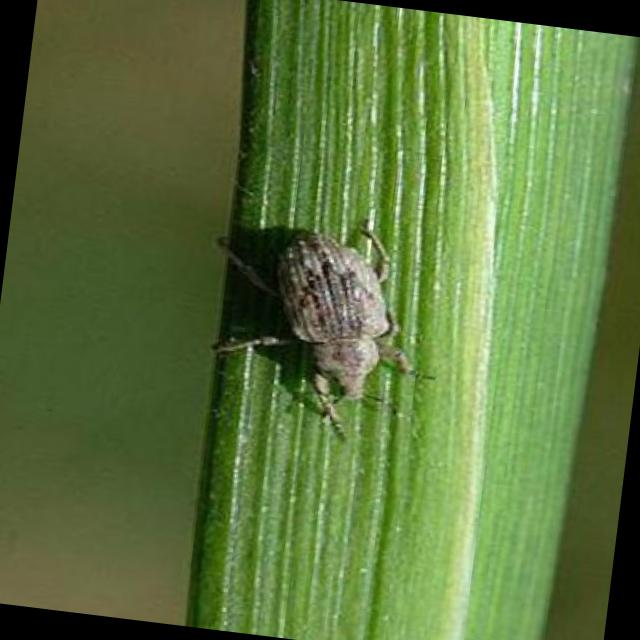rice-bug: (213, 213, 422, 420)
